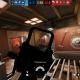Friend_label: (38, 37, 42, 39)
